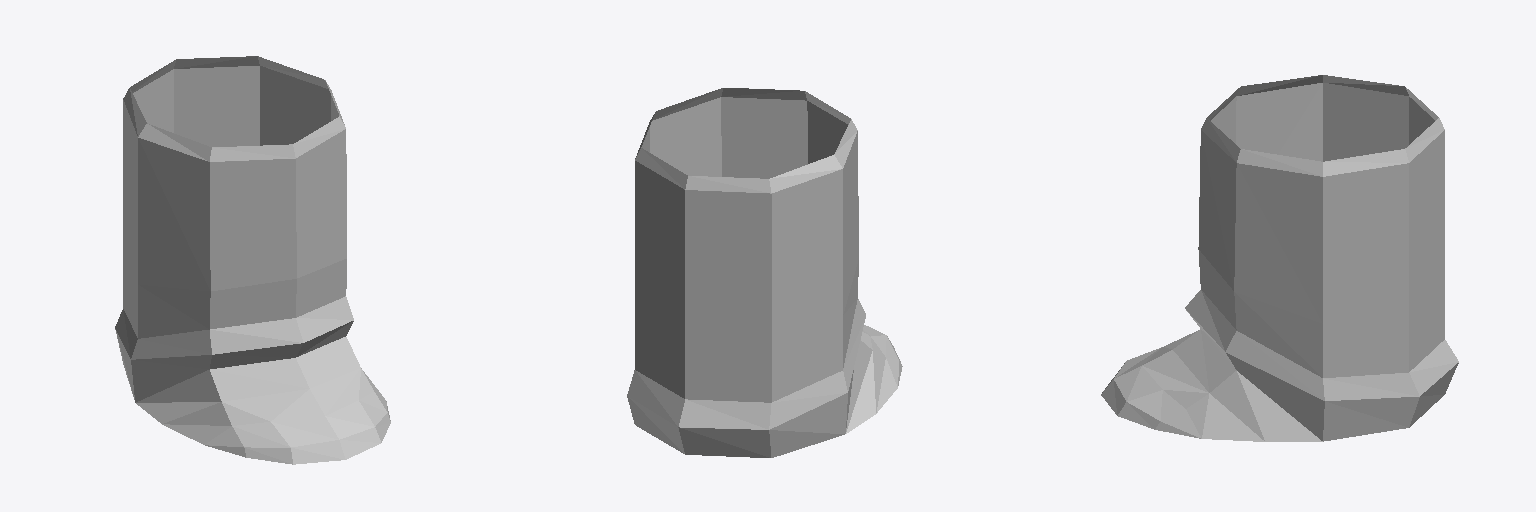
File: bota_der.obj
3 views of the same model, side by side, from view 1: azimuth 30°, elevation 25°; view 2: azimuth 150°, elevation 25°; view 3: azimuth 270°, elevation 25° (orthographic).
Visible parts, largest first — view 1: bota_der; view 2: bota_der; view 3: bota_der.
Boxes of the visible parts, box(x1,y1,x2,y2) form: bota_der: box(115, 56, 390, 464); bota_der: box(627, 88, 902, 457); bota_der: box(1101, 75, 1458, 441).
Size of the model in its own units: 0.5424 by 0.6998 by 0.8208.